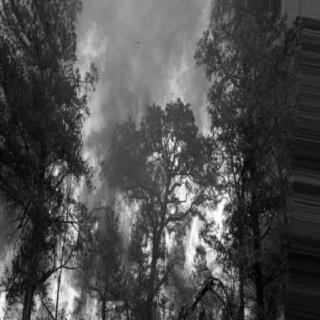Fire: (166, 27, 240, 134)
